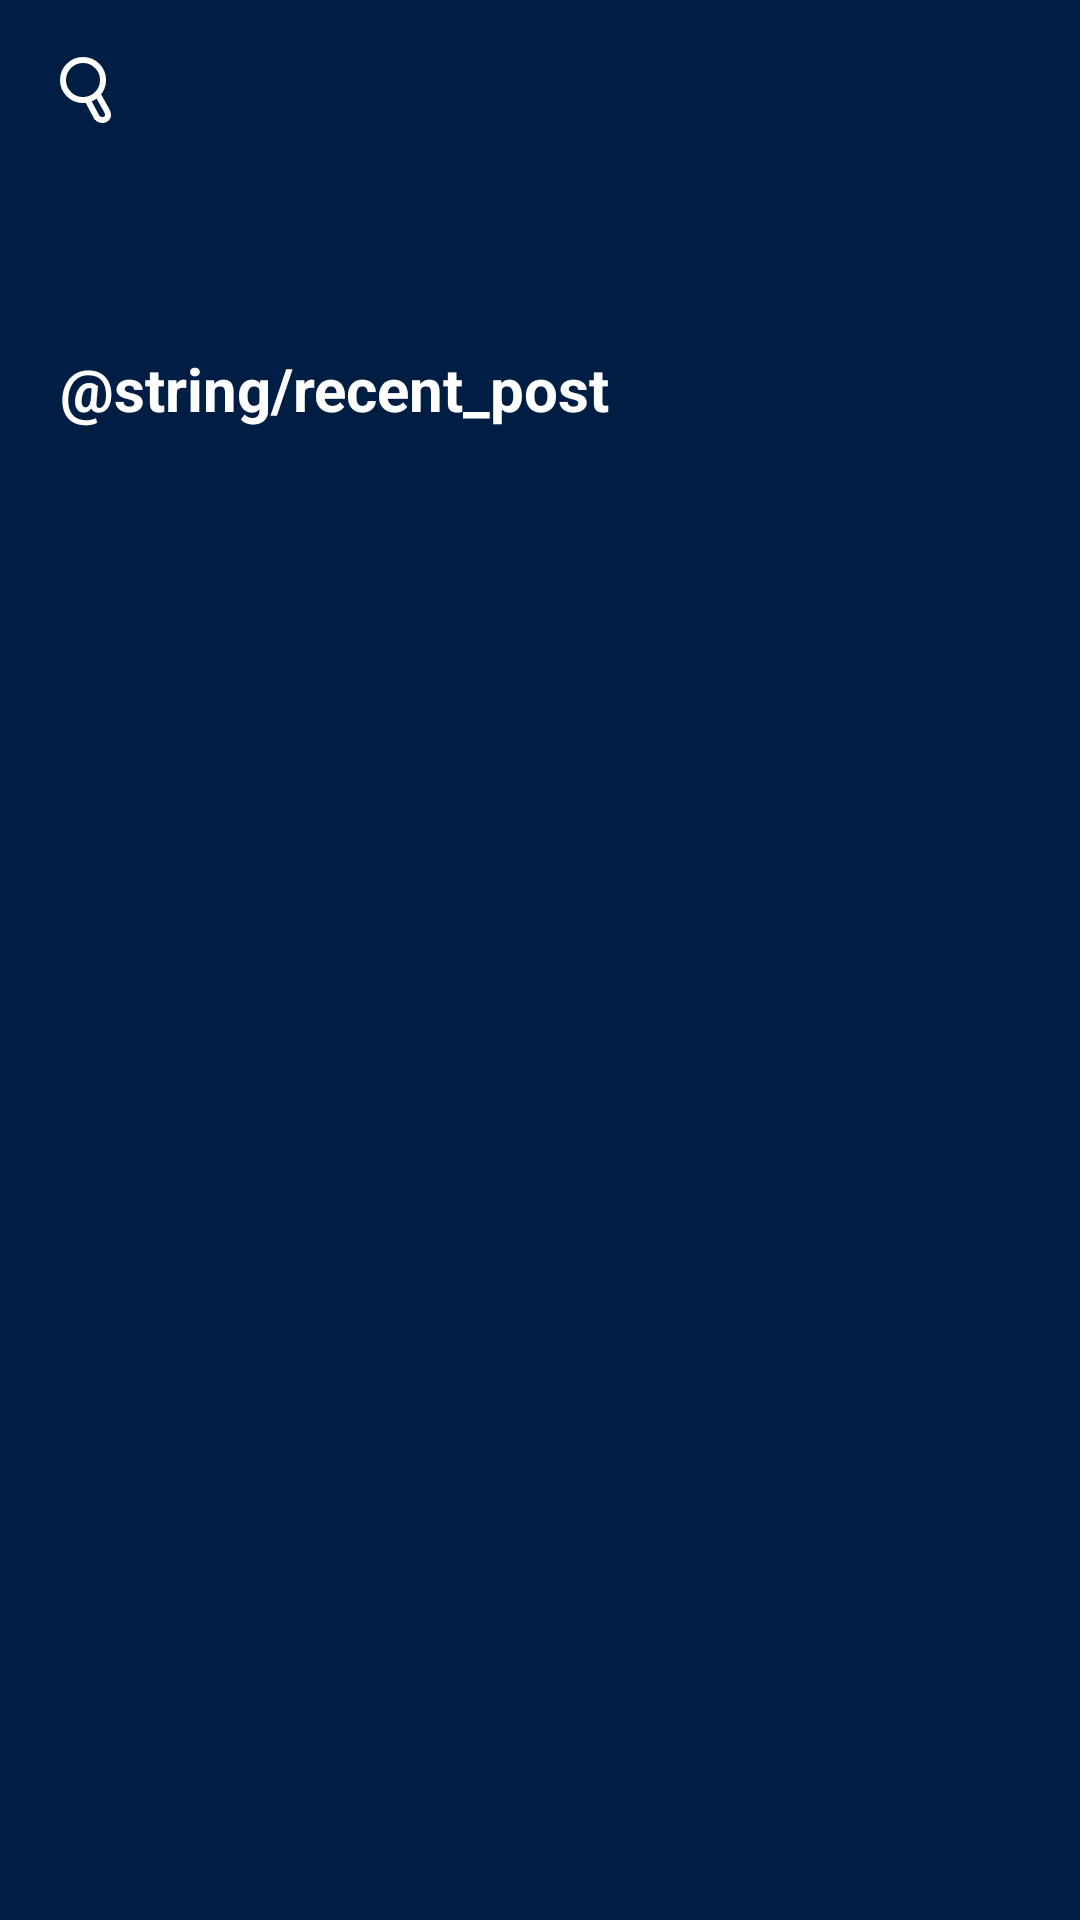

Named icons in this screenshot (1080*1920) and their centers, (x,y):
search: (85,90)
